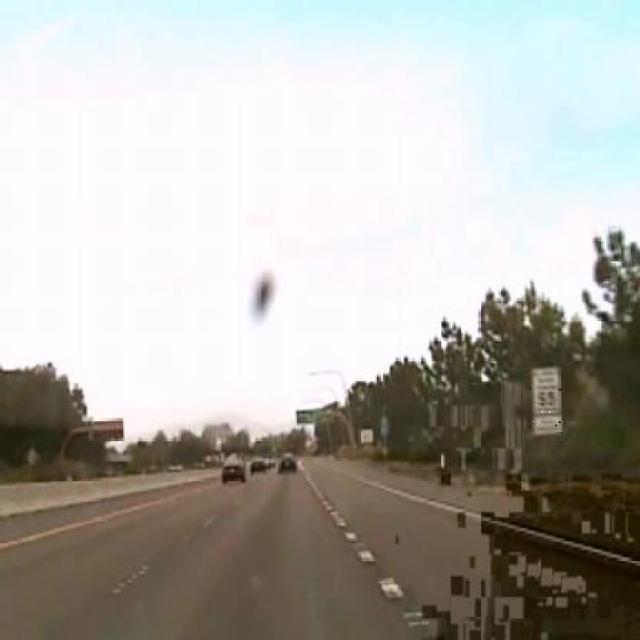truckSpeedLimit55: (530, 363, 564, 436)
